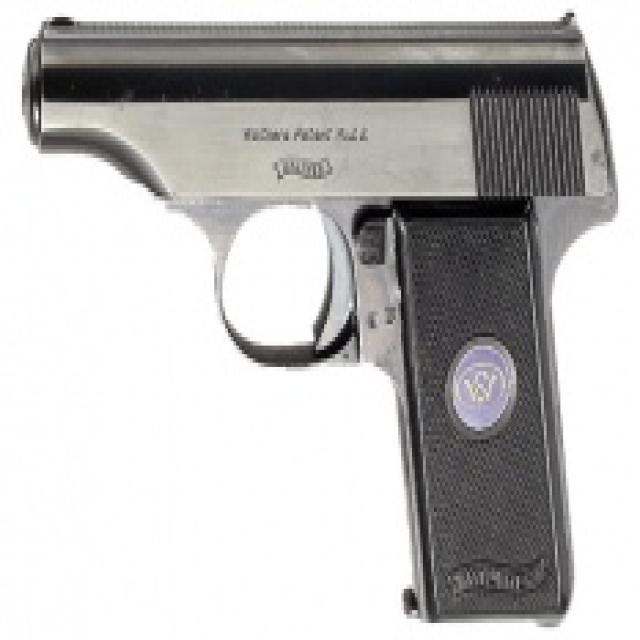pistol: (18, 11, 618, 640)
